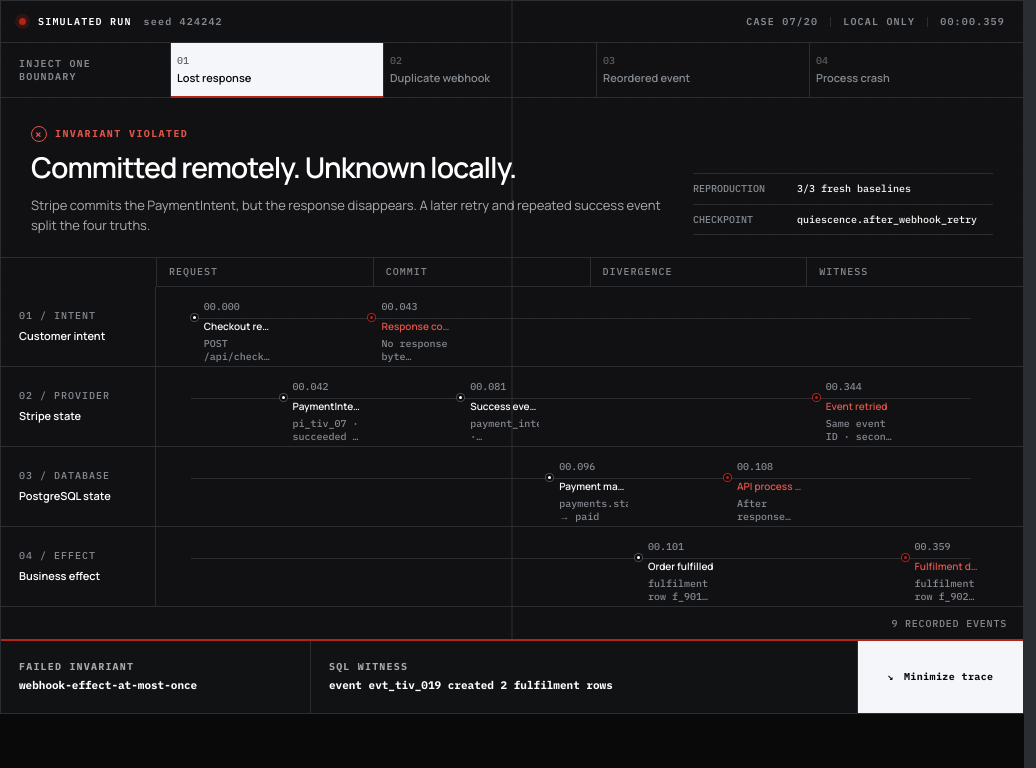
Test case: TraceInstrument › reveals the five decisive actions without hiding the failure evidence
The width and height of the screenshot is (1036, 768).
Click the button "↘ Minimize trace": (940,677) [858,641,1023,713]
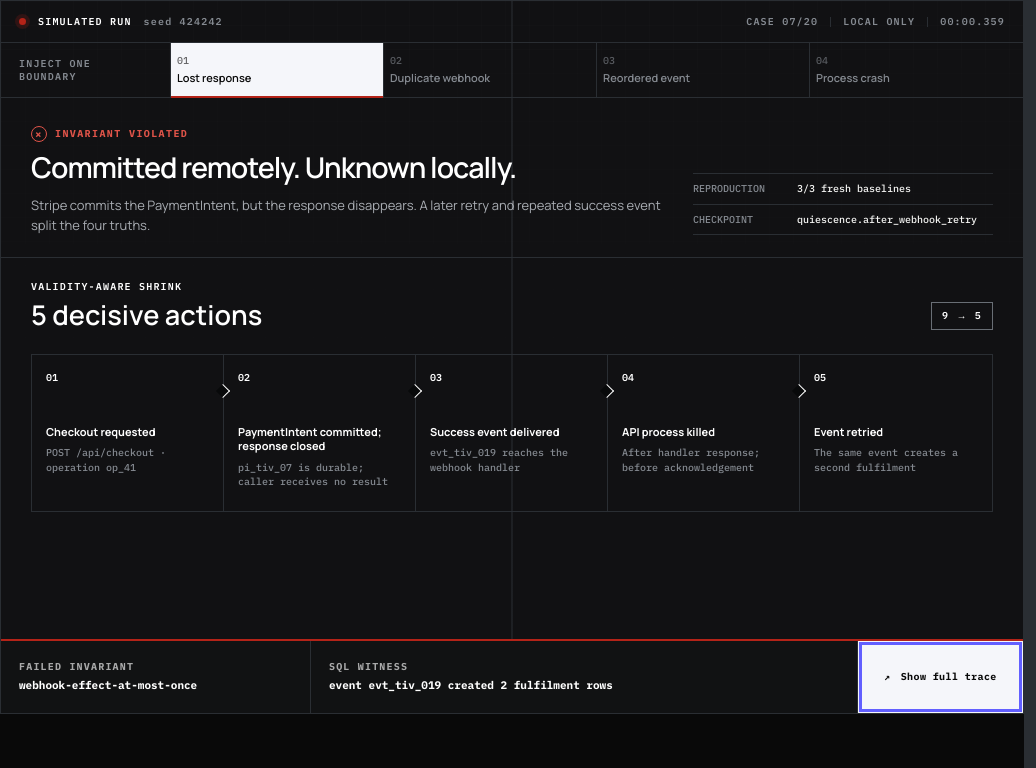
Expected: the text "event evt_tiv_019 created 2 fulfilment rows" is shown, [329,678,613,692]
Result: the number of list items is 5 at [32,355,224,511]; [224,355,416,511]; [416,355,608,511]; [608,355,800,511]; [814,371,958,474]
Result: the text "5 decisive actions" is shown at [31,300,262,330]
Click the button "↗ Show full trace": (940,677) [858,641,1023,713]
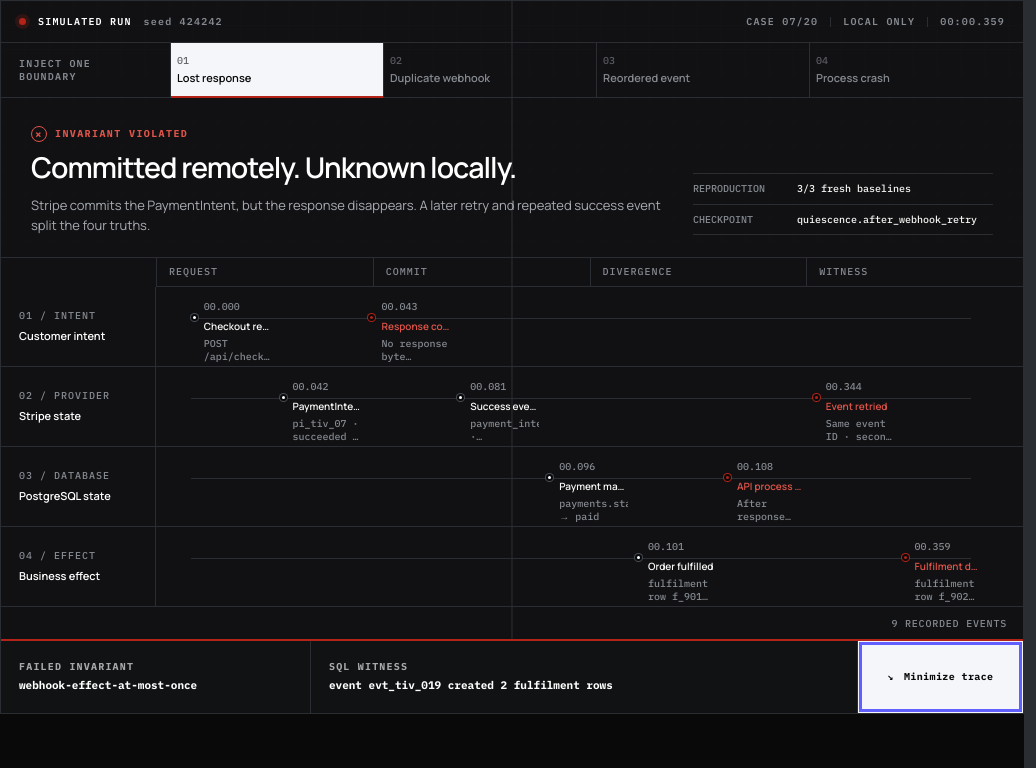
Result: the text "9 recorded events" is shown at [891,619,1007,629]
